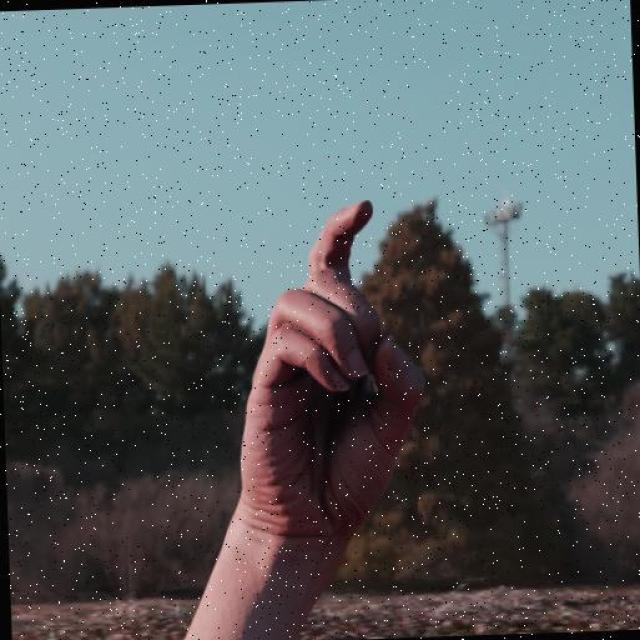X: (198, 184, 436, 562)
